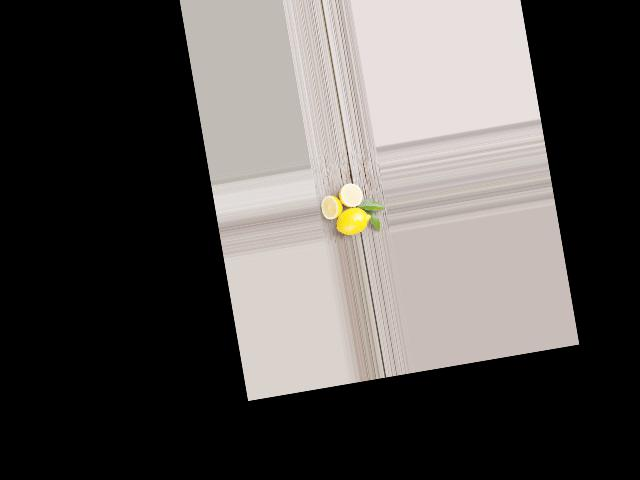lemon: (333, 202, 375, 235)
